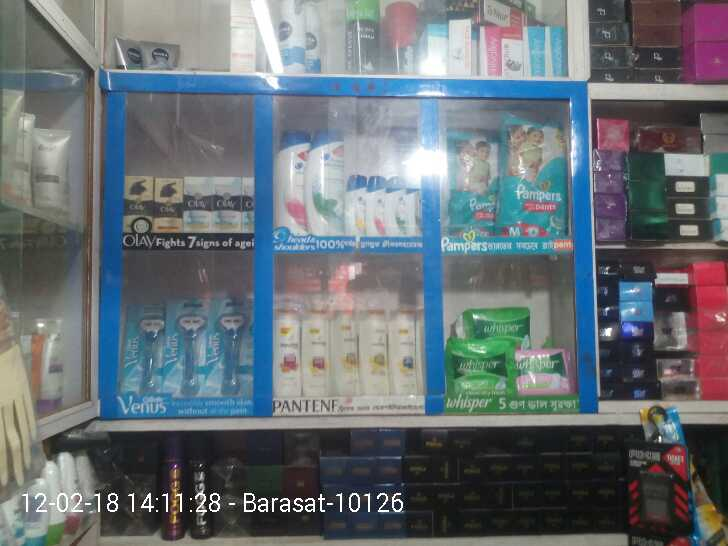venus: (212, 299, 259, 400), (121, 302, 168, 397), (168, 302, 212, 400)
